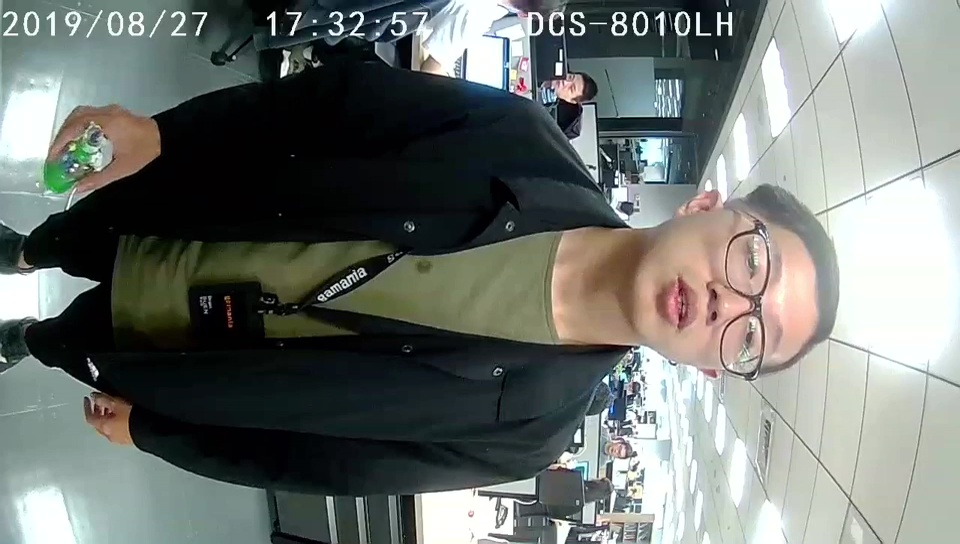buzz: (41, 118, 105, 194)
